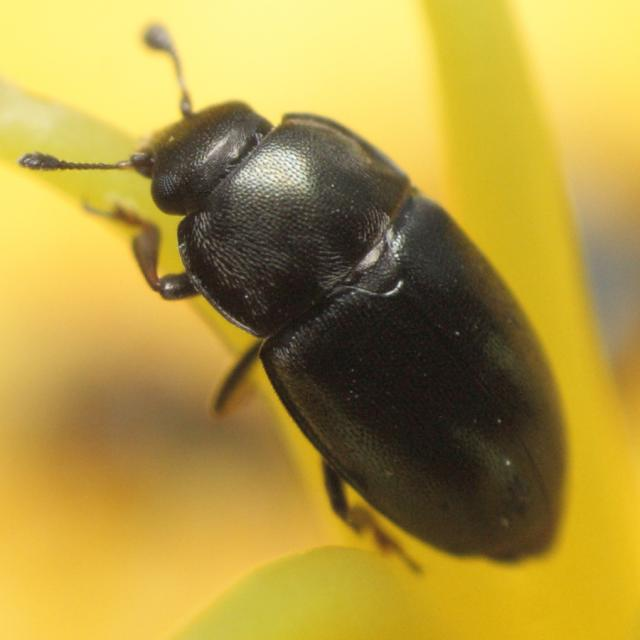pollen_beetle: (16, 16, 581, 584)
